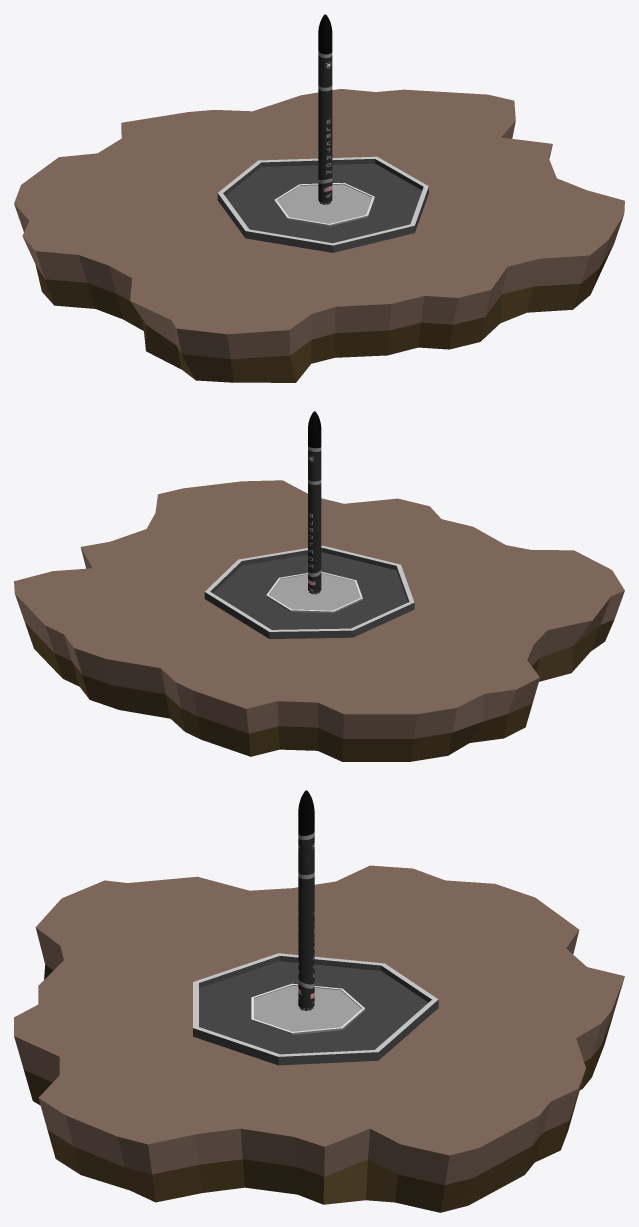
File: electron-v3.gltf
3 renders of one model, top to bottom at view 1: azimuth 30°, elevation 25°; view 2: azimuth 150°, elevation 25°; view 3: azimuth 270°, elevation 25°, orthographic. The views are drawn at different scales.
Parts seen in each view (by area): view 1: Plane, Circle, Cylinder.001, Cylinder.005; view 2: Plane, Circle, Cylinder.001, Cylinder.005; view 3: Plane, Circle, Cylinder.001, Cylinder.005.
Boxes of the visible parts, x1,y1,x2,y2 form: Plane: [14, 89, 624, 382]; Circle: [217, 156, 428, 252]; Cylinder.001: [274, 183, 374, 226]; Cylinder.005: [318, 14, 332, 204]; Plane: [14, 480, 624, 761]; Circle: [204, 545, 414, 638]; Cylinder.001: [266, 571, 362, 613]; Cylinder.005: [308, 411, 321, 594]; Plane: [14, 865, 624, 1212]; Circle: [193, 953, 438, 1065]; Cylinder.001: [251, 983, 365, 1034]; Cylinder.005: [298, 790, 314, 1010].
Bounding box in the file's own units: 8.06 × 3.76 × 7.18.
Materials: 9 (1 with a texture image).
